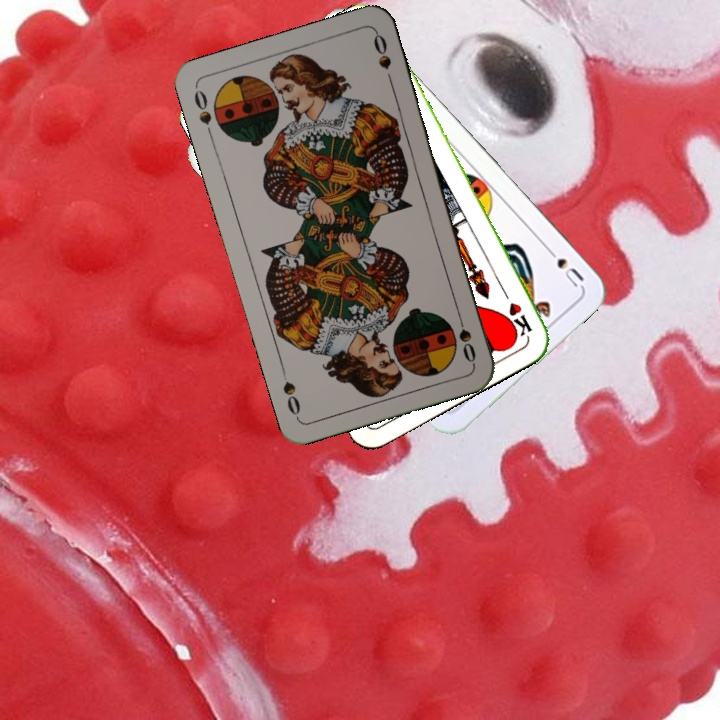HK: (496, 283, 535, 340)
SO: (453, 307, 479, 366), (190, 86, 216, 142)
SU: (540, 241, 587, 290)
